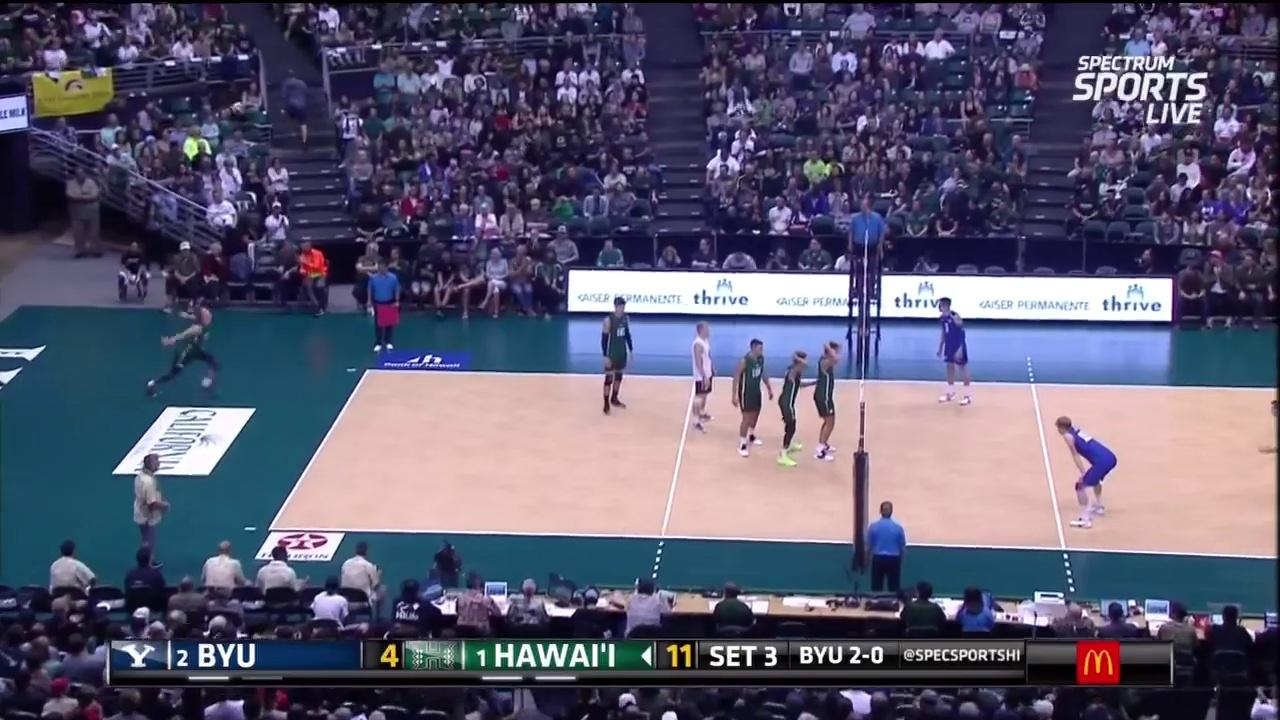player: (1053, 416, 1115, 527), (143, 307, 218, 398), (733, 339, 773, 456), (600, 295, 634, 411), (806, 342, 839, 460), (777, 346, 808, 469), (935, 299, 969, 404), (687, 322, 717, 429)
refree: (861, 499, 906, 587), (846, 195, 888, 286), (365, 256, 401, 351)
